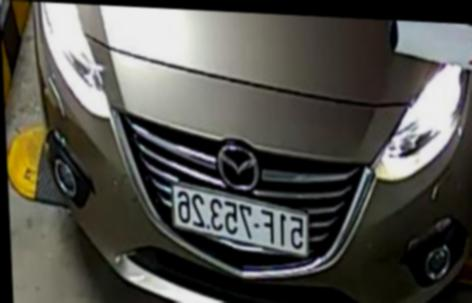License_Plate: (163, 187, 316, 265)
